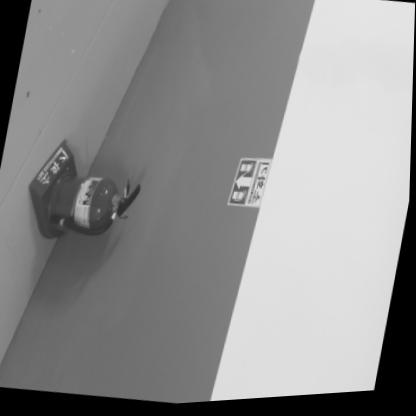FE: (19, 129, 151, 253)
